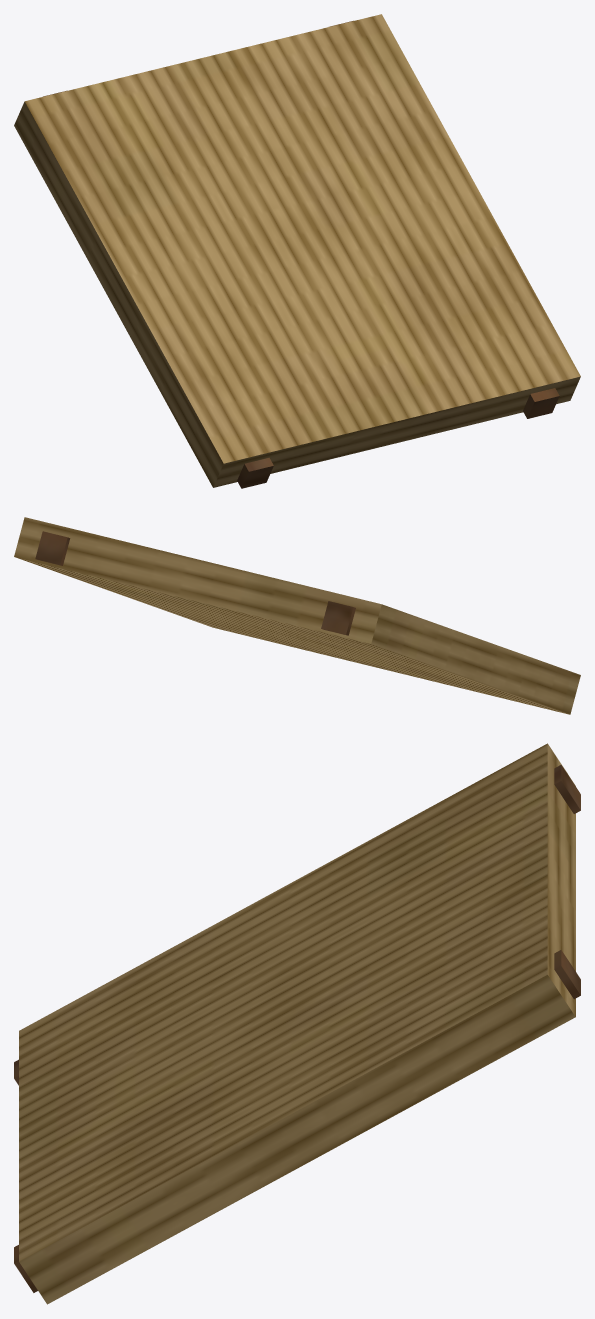
Rendered from roof.glb.
3 renders of one model, top to bottom at view 1: azimuth 30°, elevation 25°; view 2: azimuth 150°, elevation 25°; view 3: azimuth 270°, elevation 25°, orthographic. The views are drawn at different scales.
Parts seen in each view (by area): view 1: roof; view 2: roof; view 3: roof.
Boxes of the visible parts, box(x1,y1,x2,y2) form: roof: box(14, 14, 580, 488); roof: box(14, 517, 580, 714); roof: box(14, 743, 580, 1304).
Bounding box in the file's own units: 1 × 0.6726 × 1.04.
Materials: 1 (1 with a texture image).
